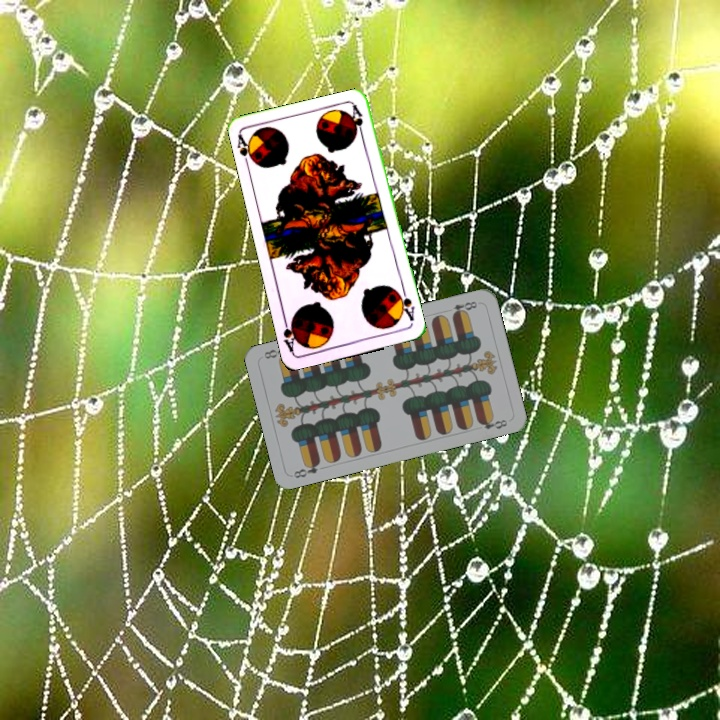E8: (290, 457, 323, 481), (448, 297, 482, 319)
SA: (233, 131, 259, 171), (393, 286, 417, 326)
